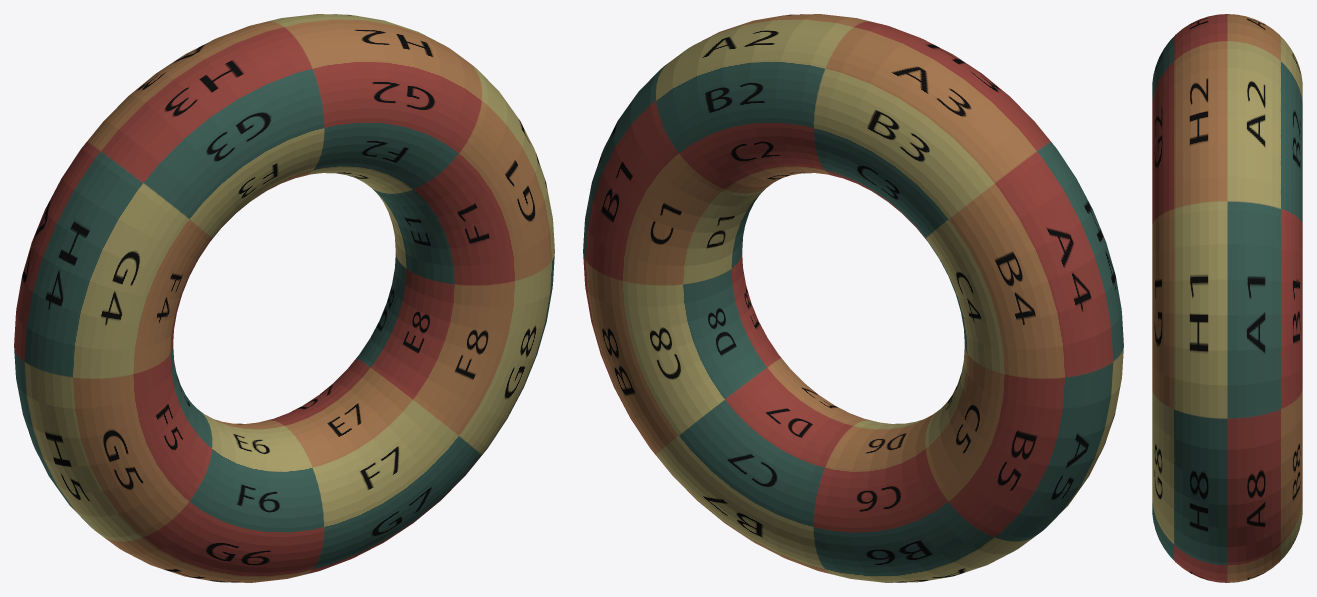
File: texture_torus_R21_r25.glb
3 renders of one model, left to right at view 1: azimuth 30°, elevation 25°; view 2: azimuth 150°, elevation 25°; view 3: azimuth 270°, elevation 25°, orthographic. The views are drawn at different scales.
Visible parts, largest first — view 1: world; view 2: world; view 3: world.
Part boxes in pixels (x1,y1,x2,y2): world: (14, 14, 554, 582); world: (583, 14, 1123, 582); world: (1152, 14, 1302, 582).
Size of the model in its own units: 32.67 by 32.6 by 8.65.
1 material, 1 textured.
